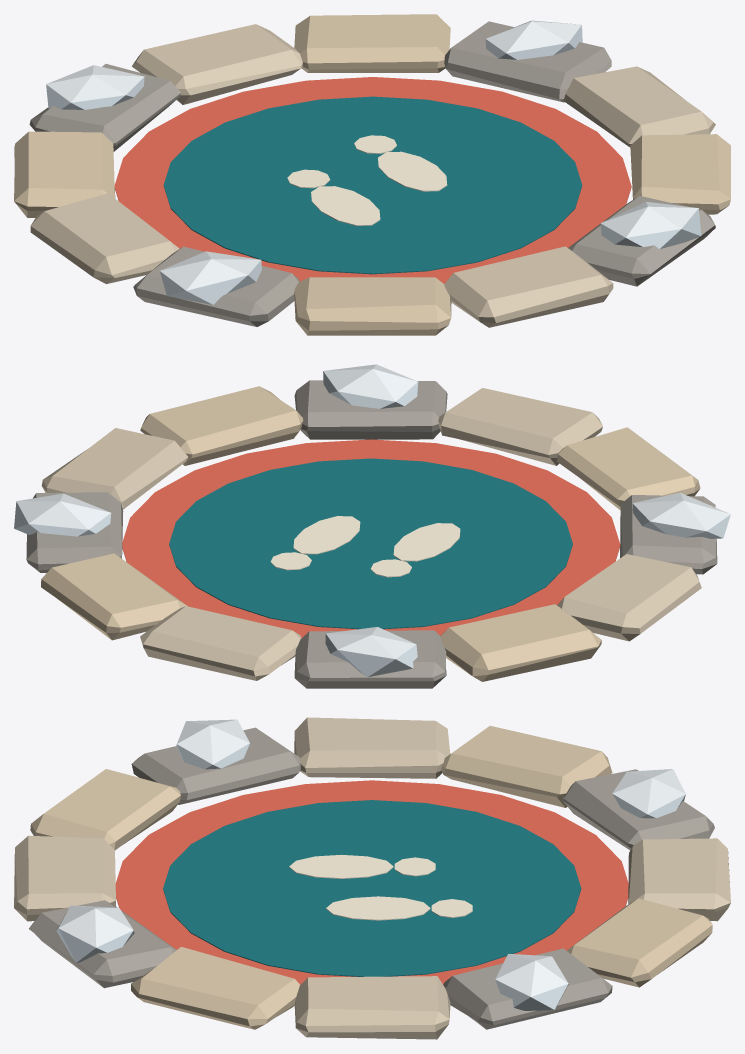
Rendered from queue_spot_marker_stone.glb.
3 renders of one model, top to bottom at view 1: azimuth 30°, elevation 25°; view 2: azimuth 150°, elevation 25°; view 3: azimuth 270°, elevation 25°, orthographic. The views are drawn at different scales.
Visible parts, largest first — view 1: queue_spot_marker_stone; view 2: queue_spot_marker_stone; view 3: queue_spot_marker_stone.
Part boxes in pixels (x1,y1,x2,y2): queue_spot_marker_stone: [14, 14, 730, 335]; queue_spot_marker_stone: [14, 364, 730, 688]; queue_spot_marker_stone: [14, 717, 730, 1039].
Size of the model in its own units: 1.17 by 0.0942 by 1.17.
